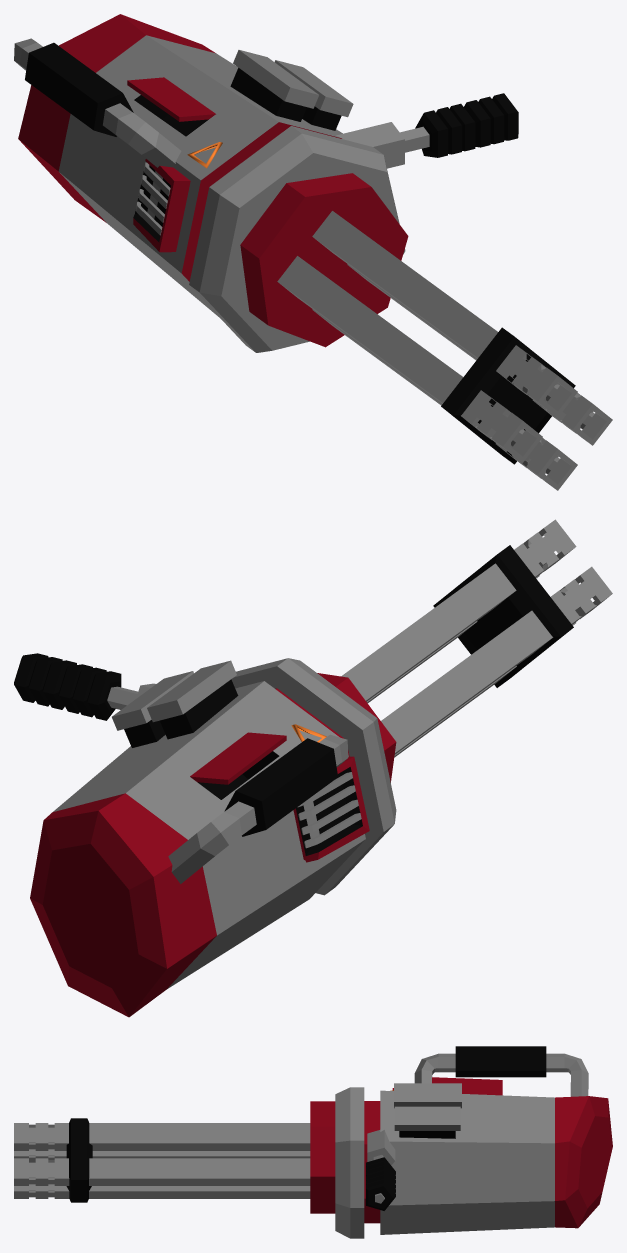
File: MiniGun.obj
3 views of the same model, one above another, from view 1: azimuth 30°, elevation 25°; view 2: azimuth 150°, elevation 25°; view 3: azimuth 270°, elevation 25° (orthographic). The views are drawn at different scales.
Parts seen in each view (by area): view 1: MainPart_Cylinder.021, Barrel_Cylinder.000; view 2: MainPart_Cylinder.021, Barrel_Cylinder.000; view 3: MainPart_Cylinder.021, Barrel_Cylinder.000.
Part boxes in pixels (x1,y1,x2,y2): MainPart_Cylinder.021: (14, 14, 518, 352); Barrel_Cylinder.000: (240, 173, 612, 490); MainPart_Cylinder.021: (14, 653, 396, 1017); Barrel_Cylinder.000: (317, 519, 612, 782); MainPart_Cylinder.021: (335, 1046, 612, 1238); Barrel_Cylinder.000: (14, 1101, 335, 1213).
Size of the model in its own units: 4.15 by 2.46 by 9.04.
